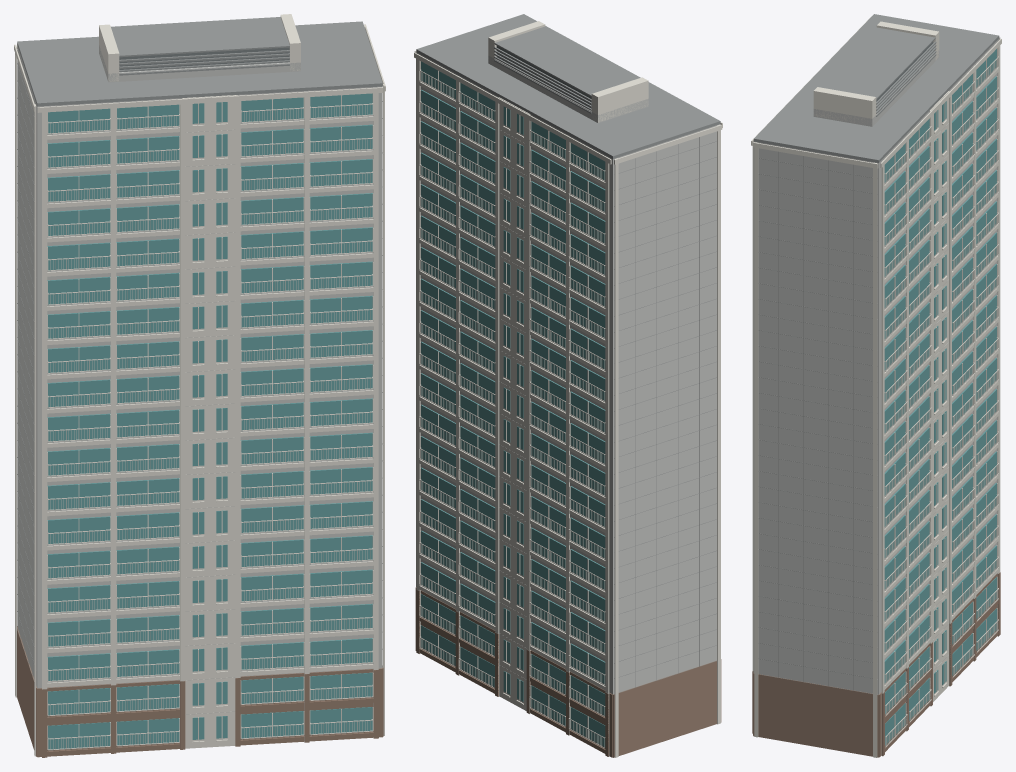
Rendered from bespoke-jamsil-els-169.glb.
3 views of the same model, side by side, from view 1: azimuth 30°, elevation 25°; view 2: azimuth 150°, elevation 25°; view 3: azimuth 270°, elevation 25° (orthographic). The views are drawn at different scales.
Visible parts, largest first — view 1: Els169_editable_Els169_turquoise_balcony_glazing, Els169_white_exact_chunk_1, Els169_editable_Els169_light_grey_solid_wall, Els169_white_exact_chunk_2, Els169_editable_Els169_modest_grey_flat_roof_caps, Els169_editable_Els169_muted_ground_wall, Els169_editable_Els169_narrow_charcoal_service_strips; view 2: Els169_editable_Els169_light_grey_solid_wall, Els169_editable_Els169_turquoise_balcony_glazing, Els169_white_exact_chunk_0, Els169_white_exact_chunk_1, Els169_editable_Els169_modest_grey_flat_roof_caps, Els169_editable_Els169_muted_ground_wall, Els169_white_exact_chunk_2, Els169_editable_Els169_narrow_charcoal_service_strips; view 3: Els169_editable_Els169_light_grey_solid_wall, Els169_editable_Els169_turquoise_balcony_glazing, Els169_white_exact_chunk_0, Els169_editable_Els169_modest_grey_flat_roof_caps, Els169_white_exact_chunk_1, Els169_editable_Els169_muted_ground_wall, Els169_white_exact_chunk_2.
Boxes of the visible parts, x1,y1,x2,y2 form: Els169_editable_Els169_turquoise_balcony_glazing: (47, 93, 372, 749); Els169_white_exact_chunk_1: (14, 43, 304, 756); Els169_editable_Els169_light_grey_solid_wall: (17, 45, 382, 714); Els169_white_exact_chunk_2: (37, 14, 385, 742); Els169_editable_Els169_modest_grey_flat_roof_caps: (17, 17, 383, 679); Els169_editable_Els169_muted_ground_wall: (17, 626, 383, 757); Els169_editable_Els169_narrow_charcoal_service_strips: (119, 47, 289, 69); Els169_editable_Els169_light_grey_solid_wall: (416, 52, 720, 694); Els169_editable_Els169_turquoise_balcony_glazing: (421, 61, 605, 747); Els169_white_exact_chunk_0: (416, 54, 605, 748); Els169_white_exact_chunk_1: (414, 52, 722, 757); Els169_editable_Els169_modest_grey_flat_roof_caps: (416, 14, 720, 692); Els169_editable_Els169_muted_ground_wall: (415, 587, 721, 757); Els169_white_exact_chunk_2: (414, 21, 722, 586); Els169_editable_Els169_narrow_charcoal_service_strips: (496, 46, 591, 108); Els169_editable_Els169_light_grey_solid_wall: (753, 38, 999, 694); Els169_editable_Els169_turquoise_balcony_glazing: (884, 49, 996, 745); Els169_white_exact_chunk_0: (881, 73, 998, 755); Els169_editable_Els169_modest_grey_flat_roof_caps: (753, 14, 999, 694); Els169_white_exact_chunk_1: (820, 37, 1001, 685); Els169_editable_Els169_muted_ground_wall: (752, 572, 1000, 757); Els169_white_exact_chunk_2: (751, 16, 939, 757).
Bounding box in the file's own units: 27.71 × 54.2 × 19.77.
